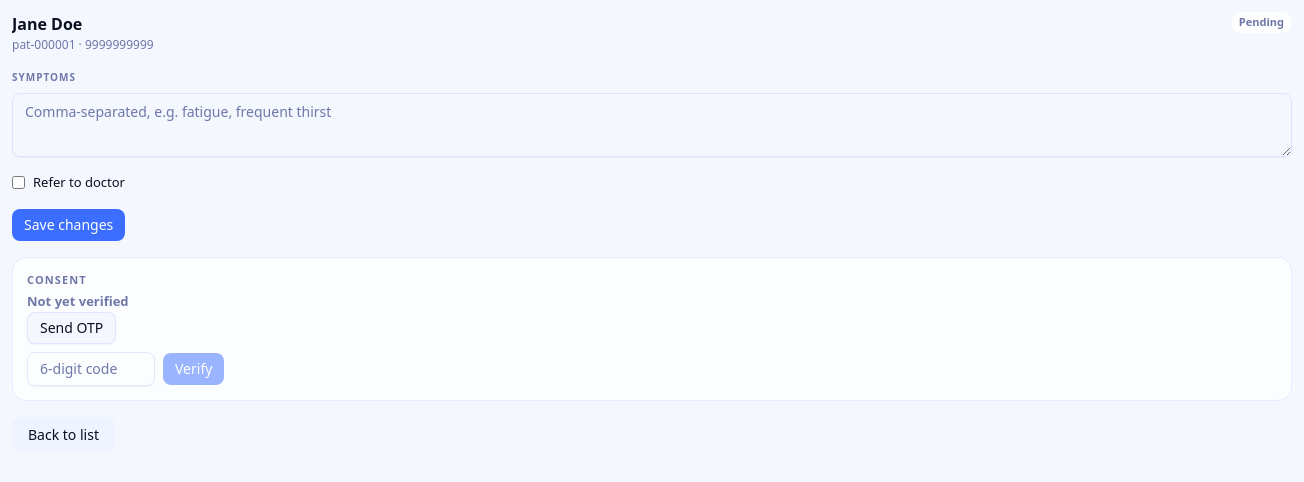
Test: ScreeningDetail › consent › requesting an OTP shows the TEMP code inline (no delivery sender exists yet) and relabels the button to Resend
Click the button "Send OTP" at [72, 328], box left=27, top=312, right=116, bottom=344
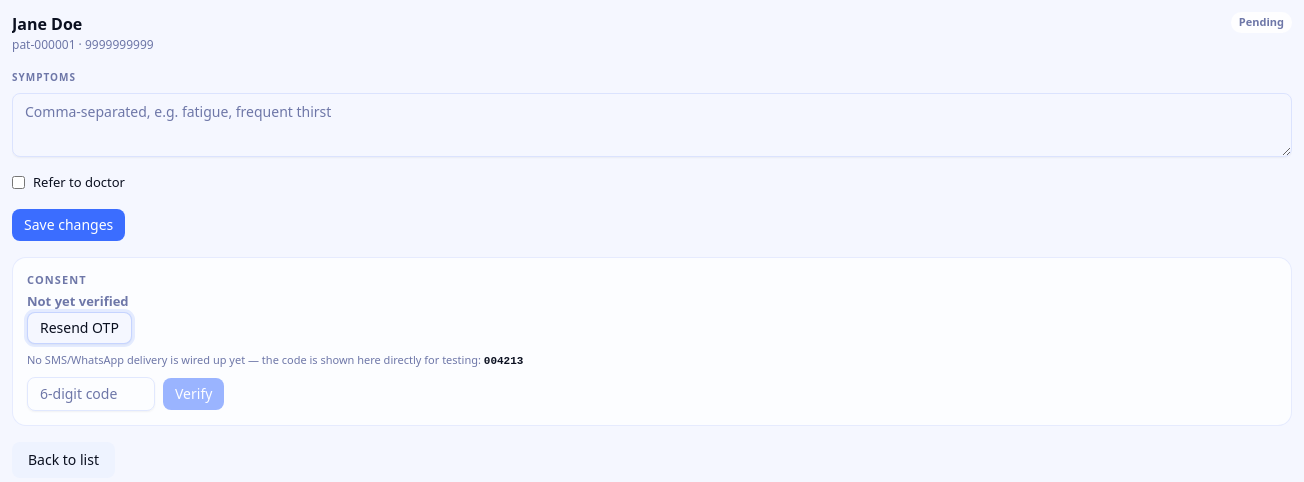
Expected: the text "004213" is shown, left=484, top=354, right=523, bottom=366
Expected: the button "Resend OTP" is shown, left=27, top=312, right=132, bottom=344
